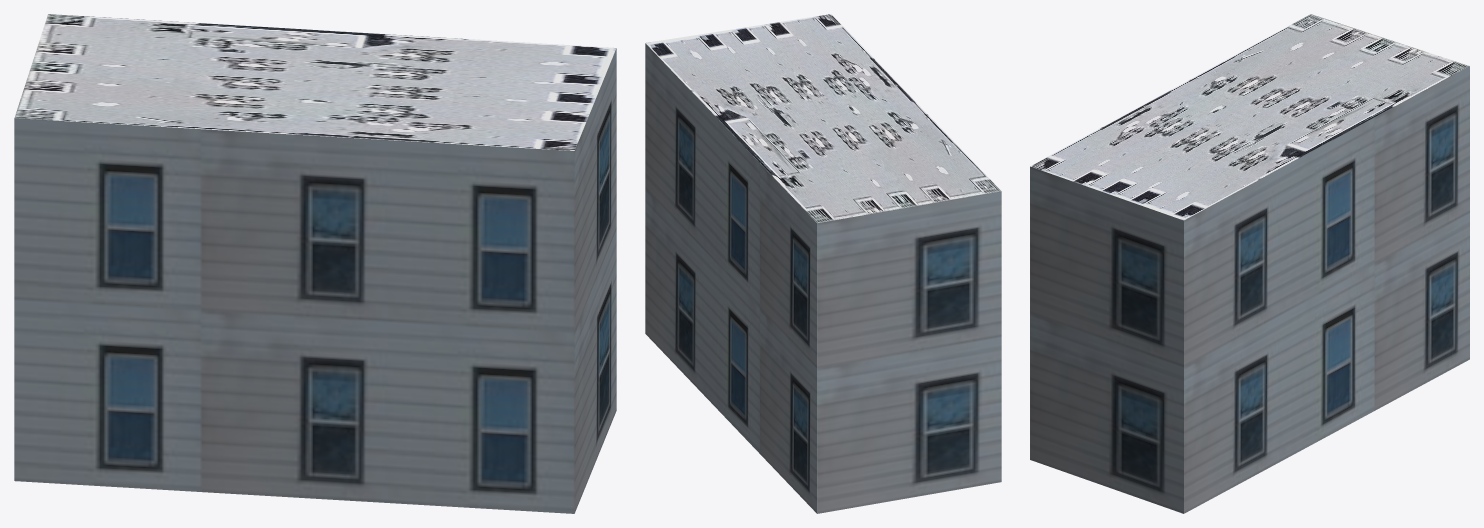
Rendered from ResTex__1961.fbx.
The picture shows the model from 3 angles, left to right: view 1: azimuth 30°, elevation 25°; view 2: azimuth 150°, elevation 25°; view 3: azimuth 270°, elevation 25°; orthographic projection. The views are drawn at different scales.
Parts seen in each view (by area): view 1: CityEngineMaterial_18_m, CityEngineMaterial_8_m; view 2: CityEngineMaterial_18_m, CityEngineMaterial_8_m; view 3: CityEngineMaterial_18_m, CityEngineMaterial_8_m.
Part boxes in pixels (x1,y1,x2,y2): CityEngineMaterial_18_m: (14, 48, 616, 513); CityEngineMaterial_8_m: (14, 14, 616, 150); CityEngineMaterial_18_m: (645, 43, 1001, 513); CityEngineMaterial_8_m: (645, 14, 1001, 223); CityEngineMaterial_18_m: (1030, 66, 1469, 513); CityEngineMaterial_8_m: (1030, 14, 1469, 220).
Bounding box in the file's own units: 9.06 × 6 × 8.15.
Materials: 2 (2 with a texture image).
